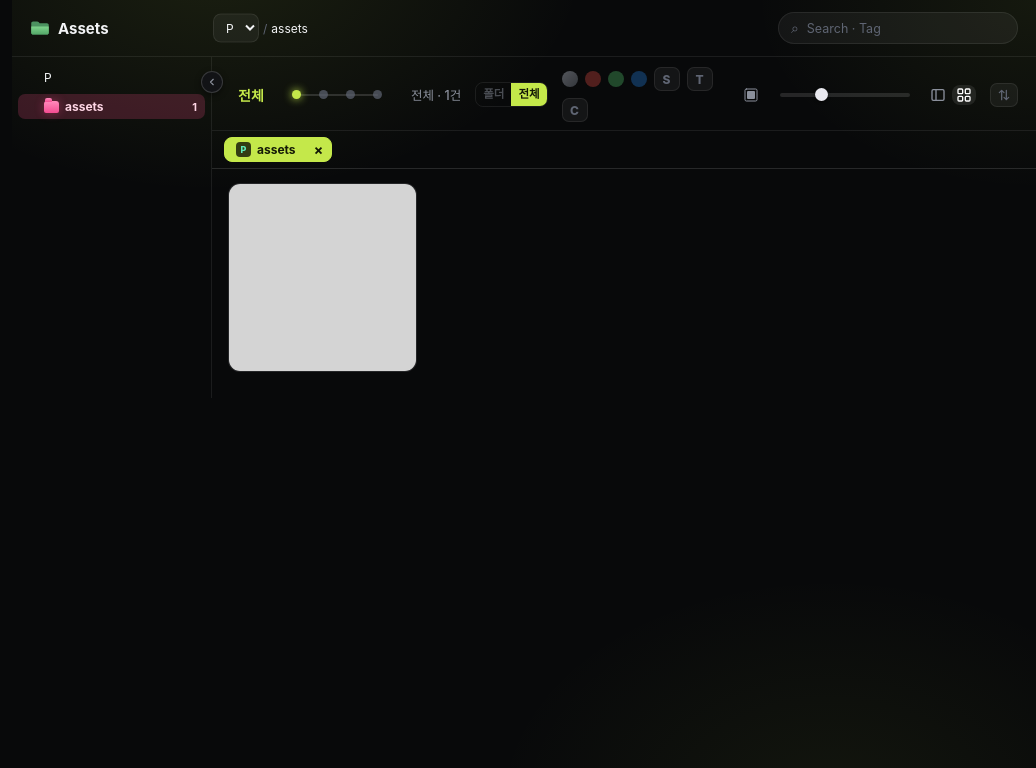
Test case: 어셋 창: 같은 손잡이로 왼쪽 폴더 트리를 여닫고, 이 창만의 기억으로 다시 열어도 그대로
Expected: the element with class "assets-tree" is shown, x1=12 y1=57 x2=212 y2=398
Click the button with class "side-edge-toggle": (212, 82) x1=201 y1=71 x2=223 y2=93
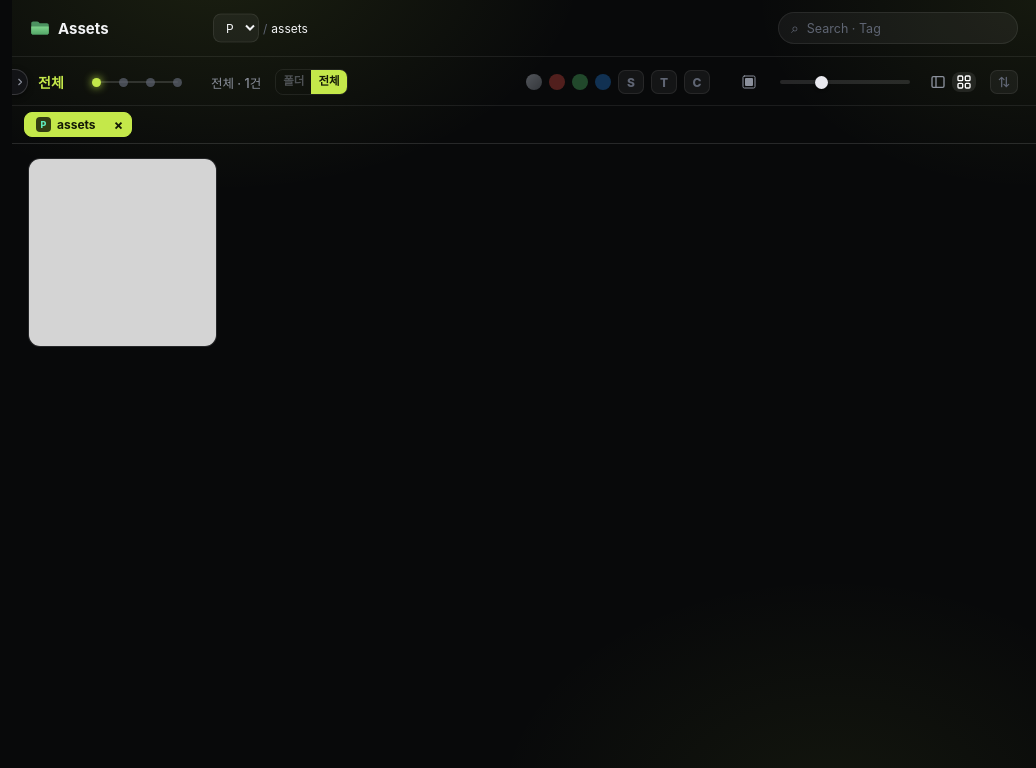
Expected: the element with class "assets-tree" is gone
Click the button with class "side-edge-toggle": (20, 82) x1=12 y1=69 x2=28 y2=95
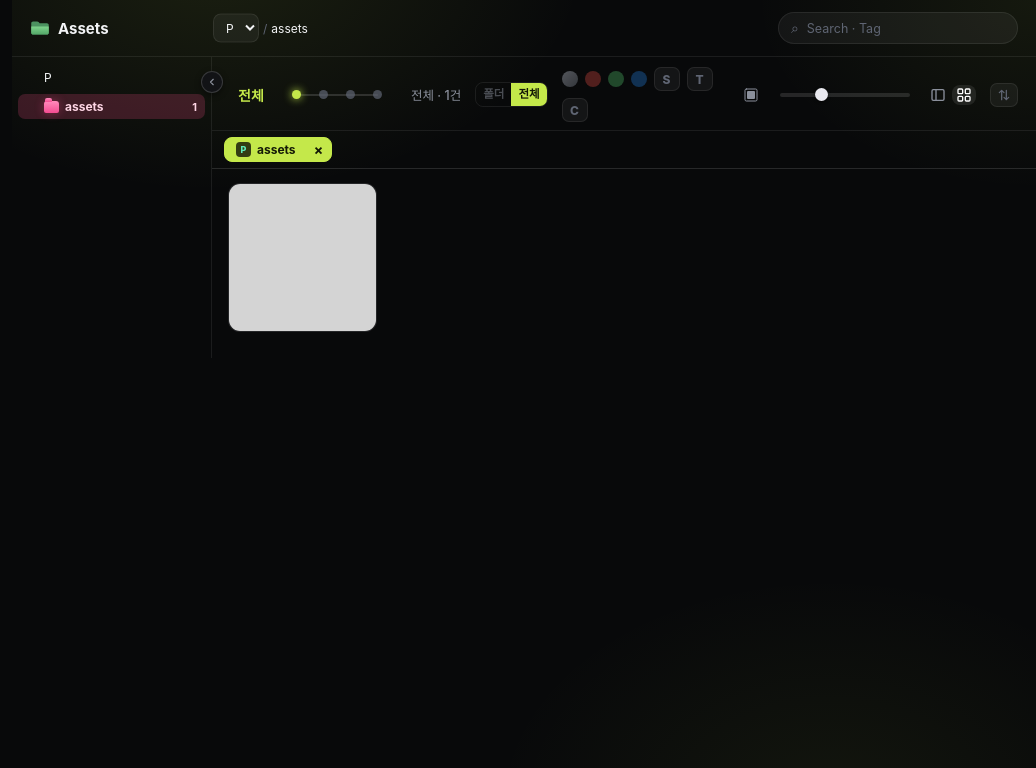
Expected: the element with class "assets-tree" is shown, x1=12 y1=57 x2=212 y2=358
